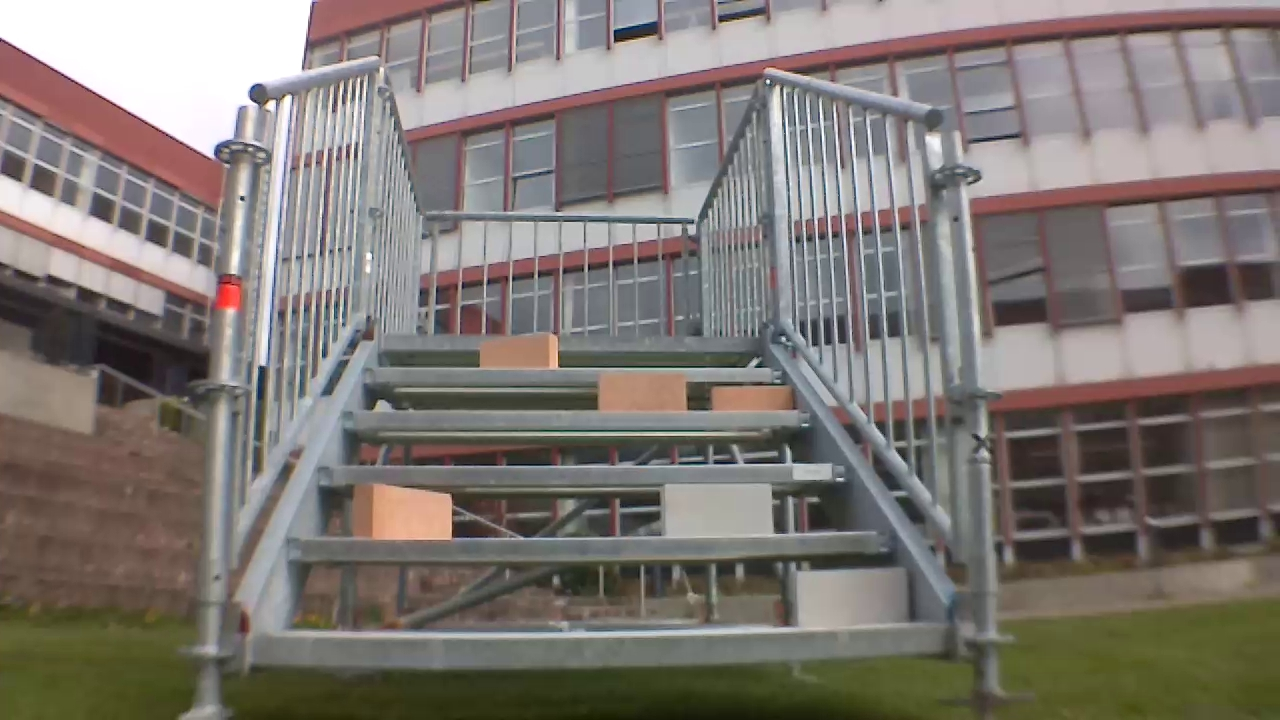brick: (796, 568, 909, 628), (661, 482, 771, 535), (352, 483, 449, 538), (599, 371, 685, 411), (479, 332, 557, 370), (713, 385, 791, 409)
edge: (254, 624, 942, 662), (288, 532, 889, 559), (316, 462, 848, 485), (343, 409, 812, 428), (364, 366, 780, 382), (382, 334, 758, 351)
stairs: (208, 57, 1028, 719)
steps: (248, 330, 954, 668)
